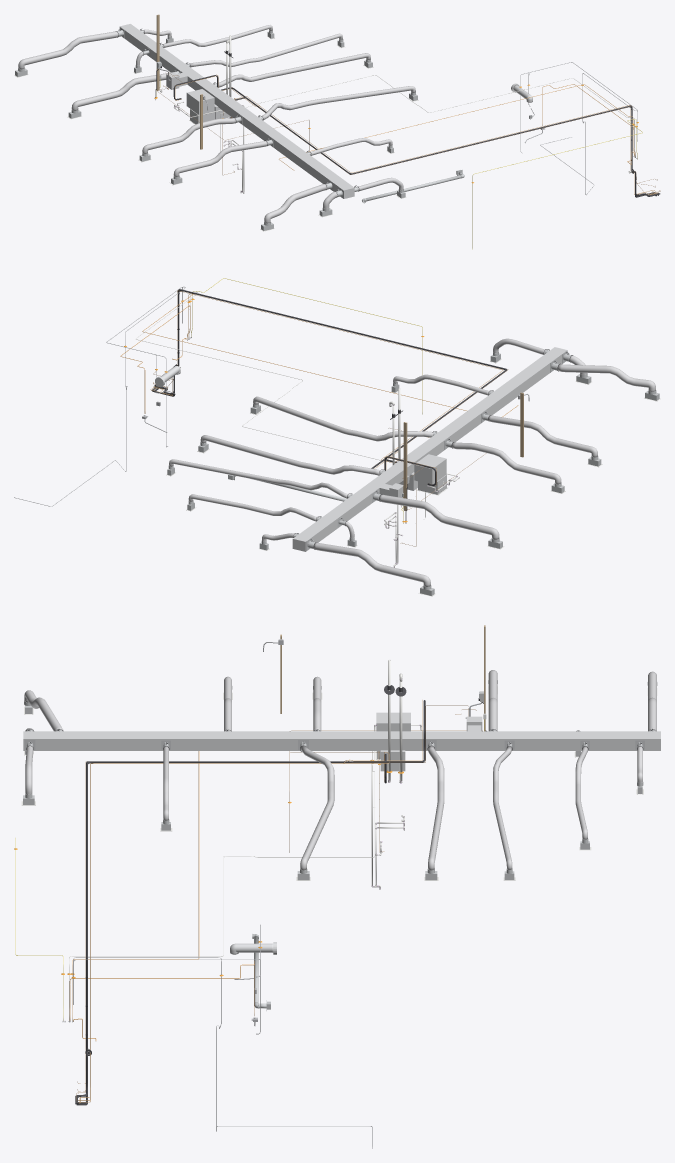
File: slab_pipes_hvac.glb
3 renders of one model, top to bottom at view 1: azimuth 30°, elevation 25°; view 2: azimuth 150°, elevation 25°; view 3: azimuth 270°, elevation 25°, orthographic. The views are drawn at different scales.
Parts seen in each view (by area): view 1: duct_hvac_supply_trunk, flex_hvac_master_1, flex_hvac_master_2, flex_hvac_bed2_1, flex_hvac_master_closet_1, flex_hvac_bed3_1, flex_hvac_kitchen_1, flex_hvac_kitchen_2, duct_return_ahu_box, flex_hvac_master_bath_1, flex_hvac_living_1, cable_hvac_furnace_feed (+4 smaller); view 2: duct_hvac_supply_trunk, flex_hvac_master_2, flex_hvac_master_1, flex_hvac_bed3_1, flex_hvac_bed2_1, flex_hvac_master_closet_1, flex_hvac_kitchen_2, flex_hvac_living_1, flex_hvac_kitchen_1, duct_return_ahu_box, flex_hvac_master_bath_1, pipe_hvac_lineset_suction_hp_ra14ay36 (+4 smaller); view 3: duct_hvac_supply_trunk, pipe_hvac_lineset_suction_hp_rd16ay36, flex_hvac_master_1, flex_hvac_master_2, flex_hvac_master_closet_1.
Part boxes in pixels (x1,y1,x2,y2): duct_hvac_supply_trunk: (119, 24, 354, 198); flex_hvac_master_1: (261, 86, 415, 119); flex_hvac_master_2: (216, 53, 370, 87); flex_hvac_bed2_1: (18, 31, 118, 69); flex_hvac_master_closet_1: (189, 33, 342, 67); flex_hvac_bed3_1: (71, 72, 172, 110); flex_hvac_kitchen_1: (173, 141, 267, 176); flex_hvac_kitchen_2: (142, 118, 236, 153); duct_return_ahu_box: (186, 89, 214, 114); flex_hvac_master_bath_1: (162, 25, 272, 47); flex_hvac_living_1: (264, 184, 327, 223); cable_hvac_furnace_feed: (220, 75, 635, 156); duct_hvac_supply_trunk: (292, 347, 567, 551); flex_hvac_master_2: (200, 435, 381, 475); flex_hvac_master_1: (253, 396, 433, 441); flex_hvac_bed3_1: (379, 494, 499, 539); flex_hvac_bed2_1: (313, 542, 430, 586); flex_hvac_master_closet_1: (169, 459, 348, 498); flex_hvac_kitchen_2: (451, 442, 561, 484); flex_hvac_living_1: (557, 364, 655, 391); flex_hvac_kitchen_1: (488, 415, 597, 457); duct_return_ahu_box: (414, 454, 446, 484); flex_hvac_master_bath_1: (188, 494, 318, 521); pipe_hvac_lineset_suction_hp_ra14ay36: (154, 290, 505, 485); duct_hvac_supply_trunk: (23, 731, 660, 750); pipe_hvac_lineset_suction_hp_rd16ay36: (78, 700, 425, 1103); flex_hvac_master_1: (300, 746, 334, 870); flex_hvac_master_2: (428, 746, 444, 870); flex_hvac_master_closet_1: (493, 746, 512, 869).
Size of the model in its own units: 16.78 by 6.71 by 14.36.
